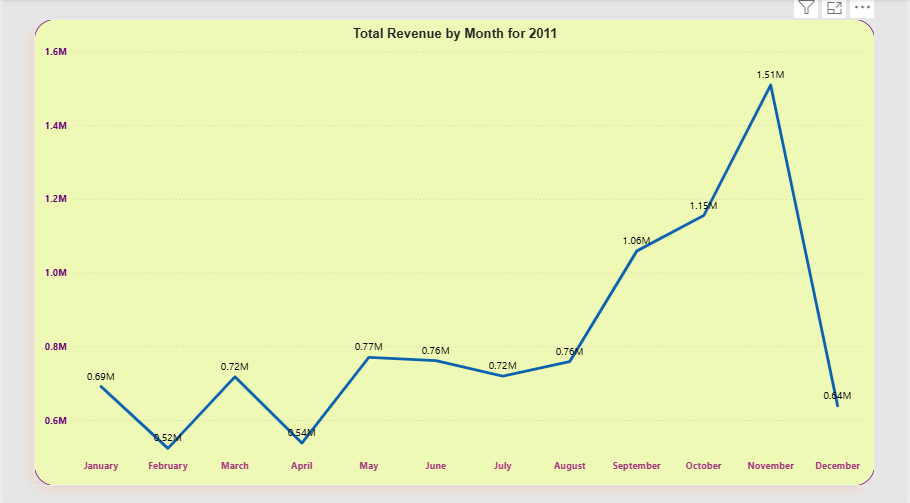

What the dashboard file says about the page in this screenshot:
{"tool":"powerbi","page":{"name":"Monthly revenue trends","canvas":[1280,720],"ordinal":0},"visuals":[{"type":"lineChart","title":"Total Revenue by Month for 2011","fields":{"Y":["Online Retail.Total Revenue"],"Category":["Online Retail.InvoiceDate.Variation.Date Hierarchy.Month"]},"box":[43.9,28.3,1192,661.9],"z":0}]}

Visuals, with their boxes in screenshot pixels (x1, y1, x2, y2), scaled from the page's 1280x720 canvas onto the 910x503 screenshot:
"Total Revenue by Month for 2011" lineChart: (left=31, top=20, right=879, bottom=482)
